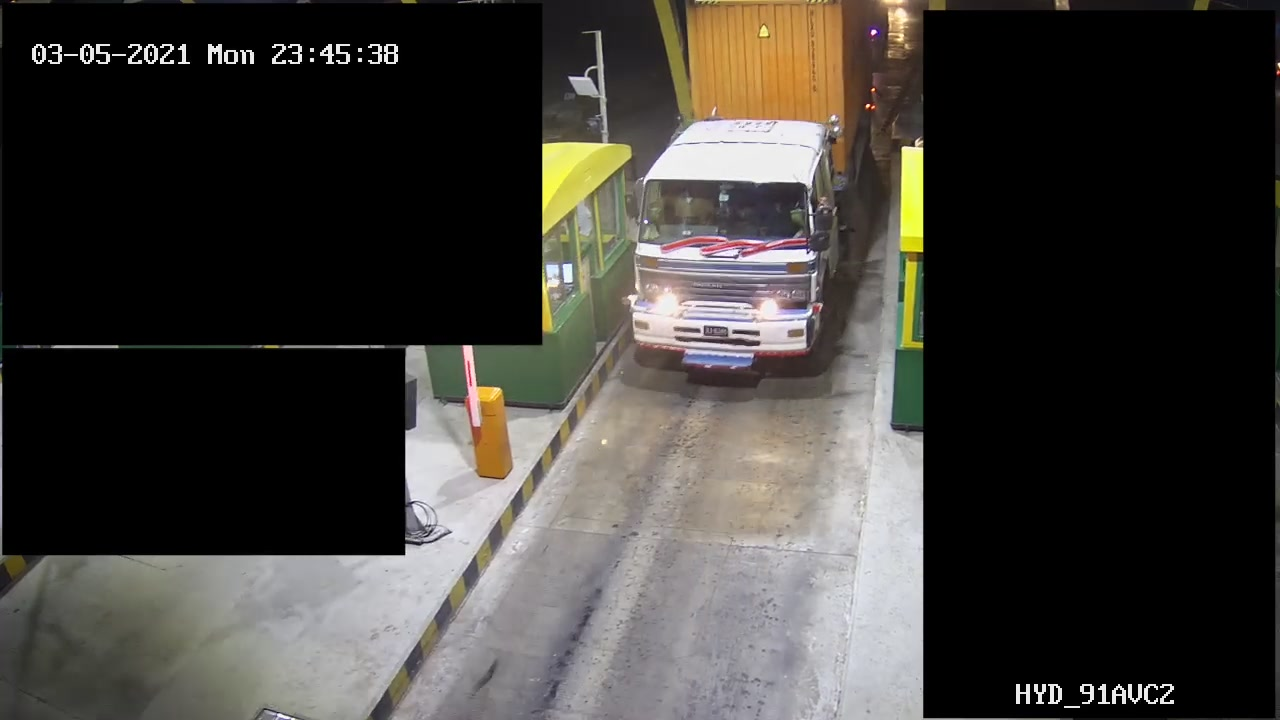F6: (623, 1, 893, 379)
